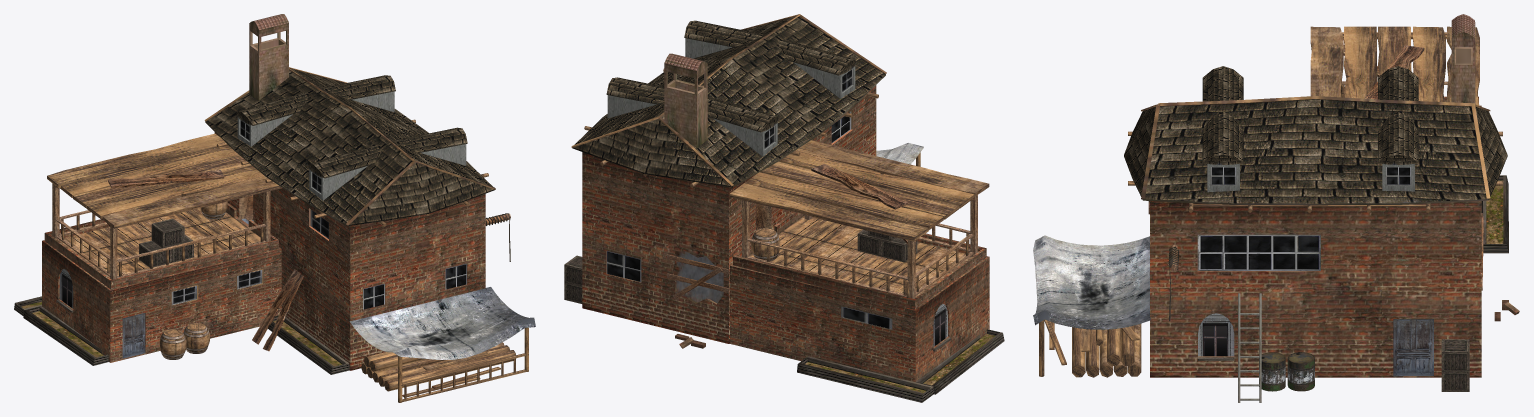
The model's file is new_large_pub.glb.
3 views of the same model, side by side, from view 1: azimuth 30°, elevation 25°; view 2: azimuth 150°, elevation 25°; view 3: azimuth 270°, elevation 25° (orthographic). The views are drawn at different scales.
Parts seen in each view (by area): view 1: old_houseobjcleanermaterialmergergles; view 2: old_houseobjcleanermaterialmergergles; view 3: old_houseobjcleanermaterialmergergles.
Part boxes in pixels (x1,y1,x2,y2): old_houseobjcleanermaterialmergergles: (14,14,535,402); old_houseobjcleanermaterialmergergles: (564,14,1004,402); old_houseobjcleanermaterialmergergles: (1033,14,1519,402).
Size of the model in its own units: 388 by 250 by 363.
1 material, 1 textured.
